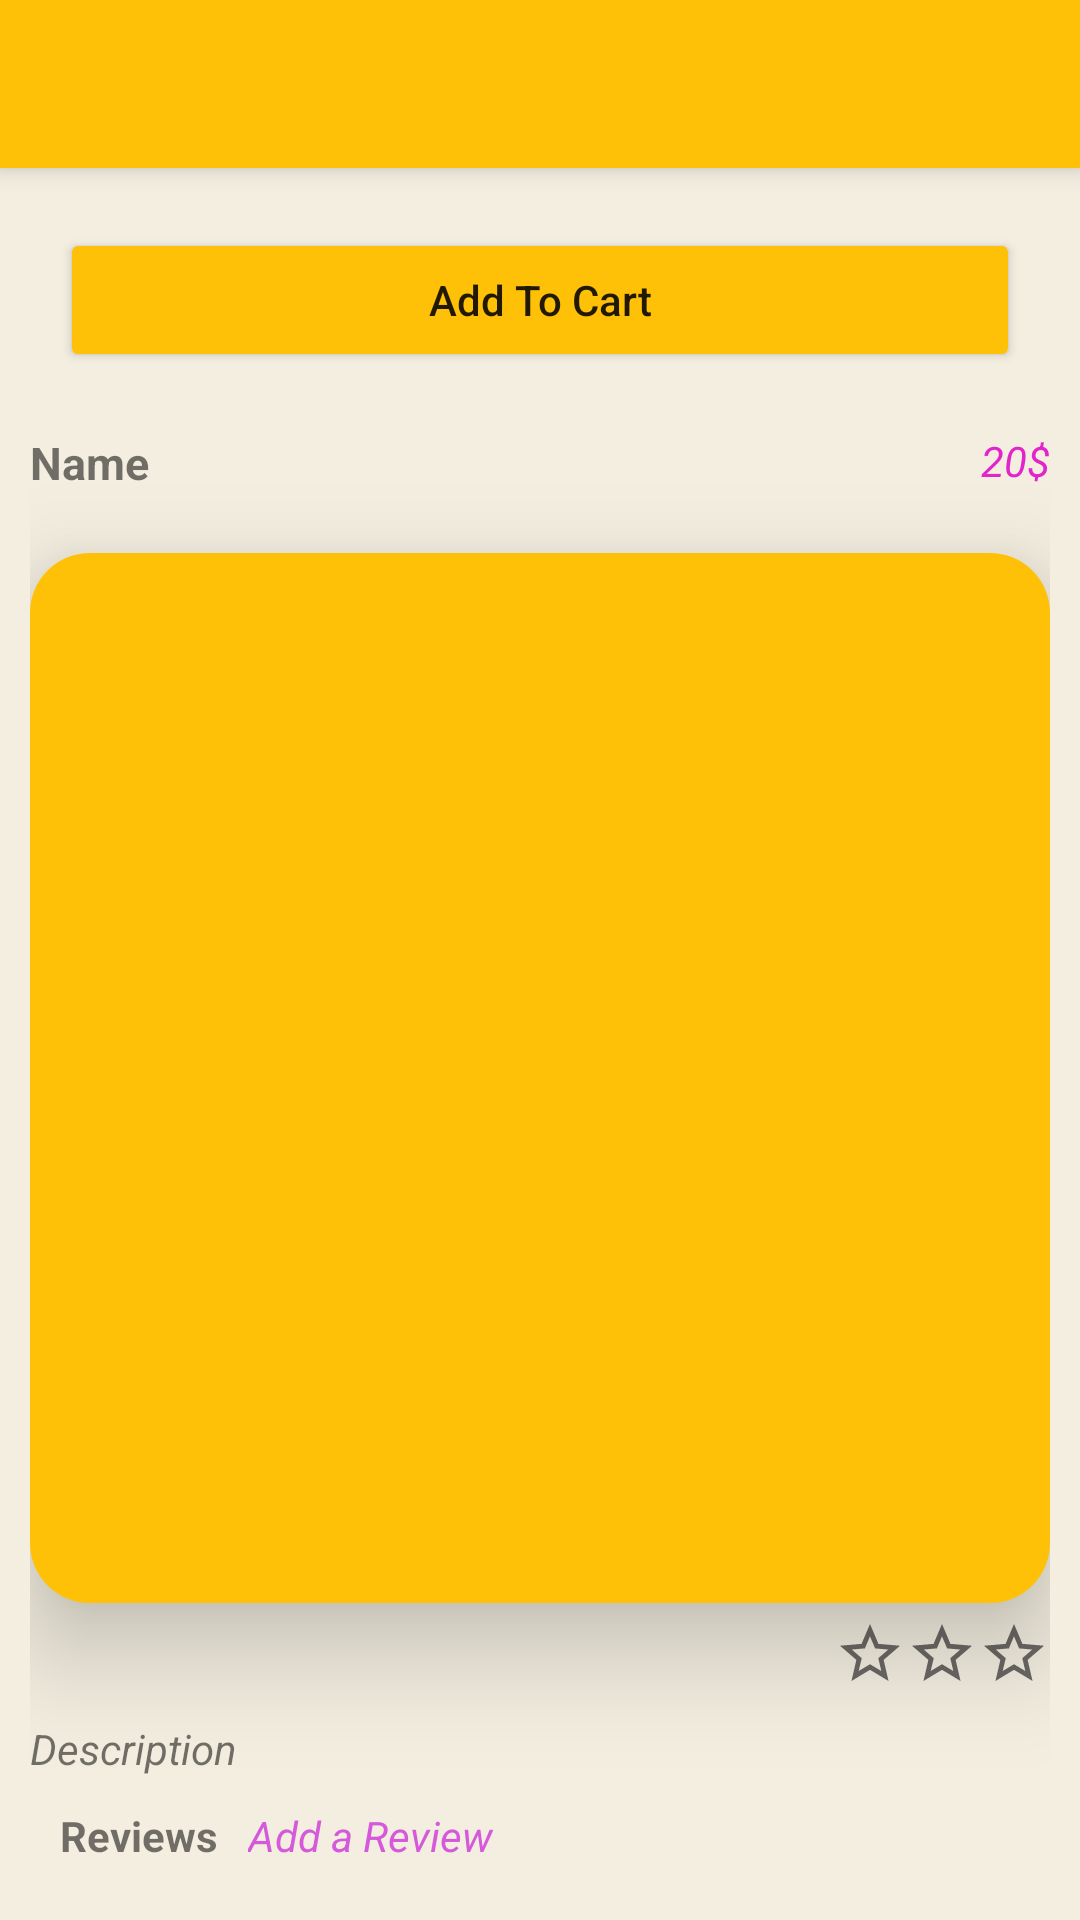

Icons on this 1080*1920 Android screen, each with the point to tap as [x,y]:
empty star: [870,1649], [942,1649], [1014,1652]
